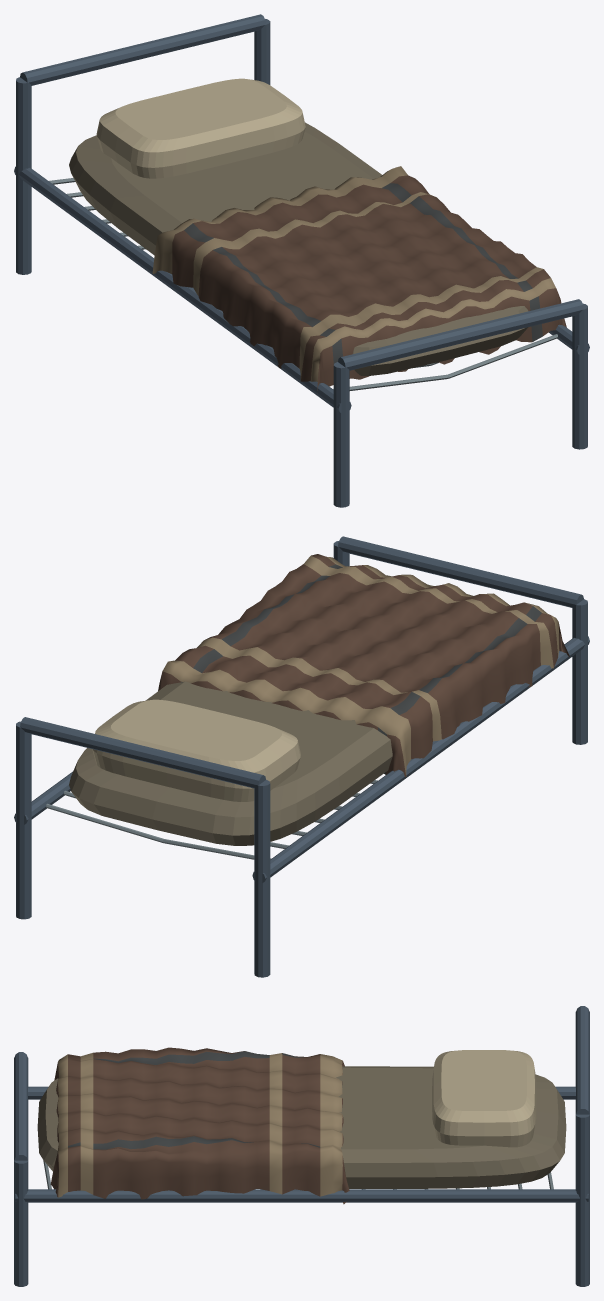
File: A-02_spring_cot.glb
The picture shows the model from 3 angles, top to bottom: view 1: azimuth 30°, elevation 25°; view 2: azimuth 150°, elevation 25°; view 3: azimuth 270°, elevation 25°; orthographic projection. The views are drawn at different scales.
Parts seen in each view (by area): view 1: A-02_spring_cot; view 2: A-02_spring_cot; view 3: A-02_spring_cot.
Part boxes in pixels (box(x1,y1,x2,y2)): A-02_spring_cot: box(14, 14, 589, 507); A-02_spring_cot: box(14, 536, 589, 977); A-02_spring_cot: box(14, 1006, 589, 1286).
Size of the model in its own units: 0.866 by 0.6469 by 1.93.
